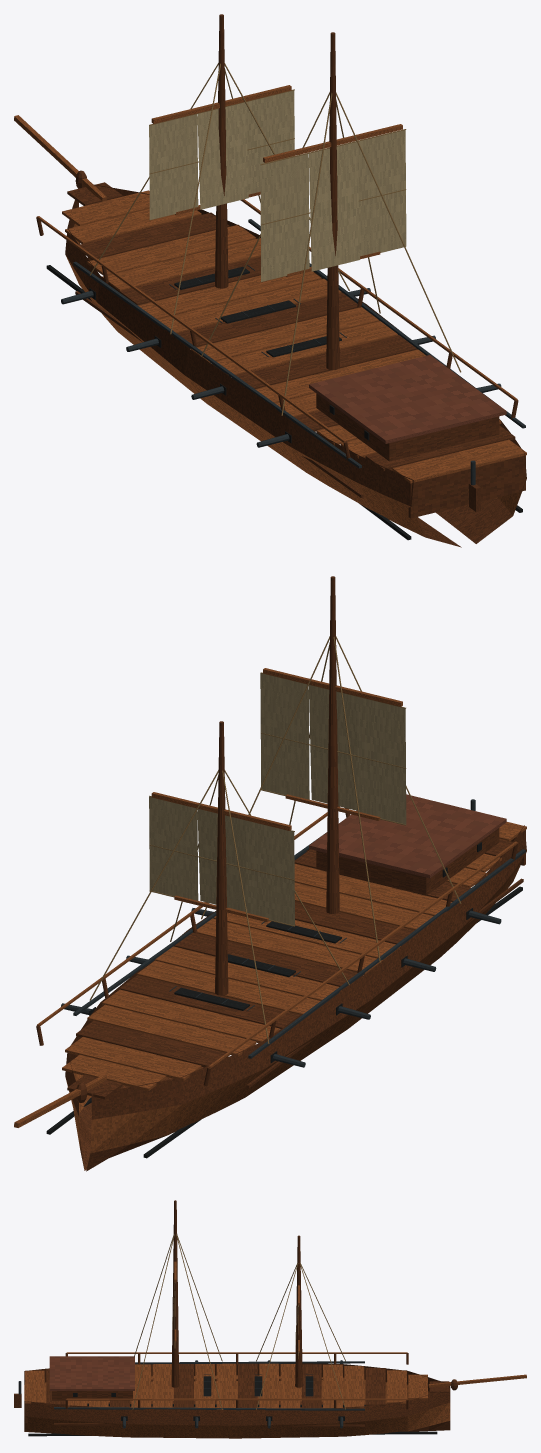
Rendered from KIT_ship_prison_transport.gltf.
The picture shows the model from 3 angles, top to bottom: view 1: azimuth 30°, elevation 25°; view 2: azimuth 150°, elevation 25°; view 3: azimuth 270°, elevation 25°; orthographic projection. The views are drawn at different scales.
Parts seen in each view (by area): view 1: hull, sail_02, sail_01; view 2: hull, sail_02, sail_01; view 3: hull.
Part boxes in pixels (bbox=[...]): hull: bbox=[14, 14, 526, 547]; sail_02: bbox=[260, 129, 406, 281]; sail_01: bbox=[149, 89, 294, 220]; hull: bbox=[14, 576, 526, 1171]; sail_02: bbox=[260, 672, 406, 825]; sail_01: bbox=[149, 795, 294, 926]; hull: bbox=[24, 1200, 526, 1438].
Bounding box in the file's own units: 7.28 × 11.87 × 24.09.
Materials: 7 (7 with a texture image).
